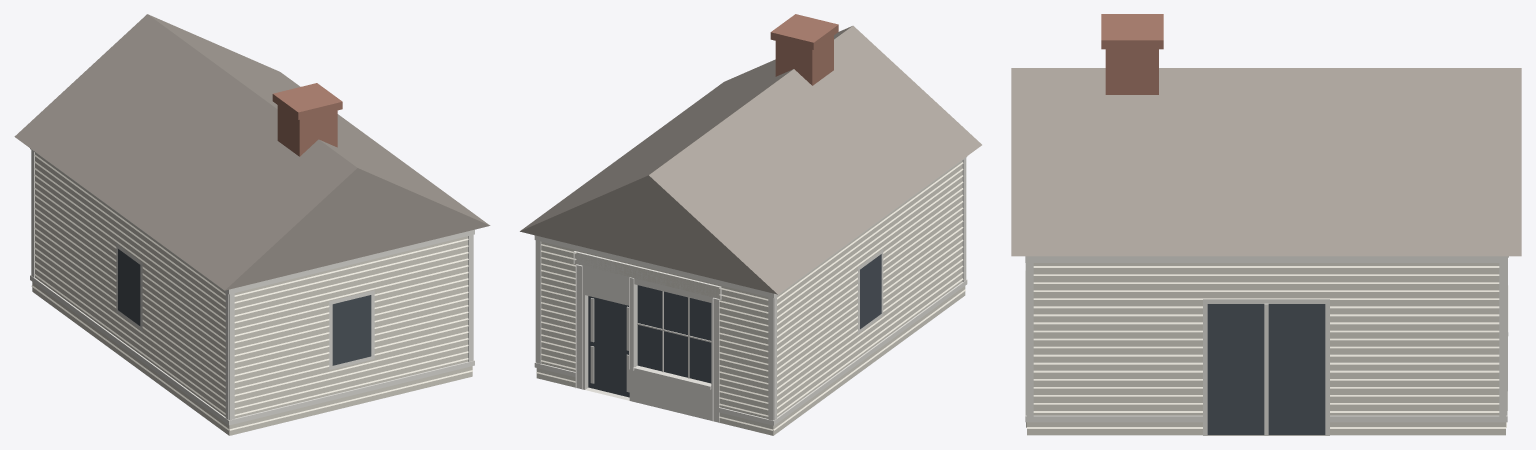
Rendered from recon_1835_north_c1_047__inferred_1835.glb.
The picture shows the model from 3 angles, left to right: view 1: azimuth 30°, elevation 25°; view 2: azimuth 150°, elevation 25°; view 3: azimuth 270°, elevation 25°; orthographic projection. The views are drawn at different scales.
Parts seen in each view (by area): view 1: recon_1835_north_c1_047__inferred_1835; view 2: recon_1835_north_c1_047__inferred_1835; view 3: recon_1835_north_c1_047__inferred_1835.
Part boxes in pixels (x1=…): recon_1835_north_c1_047__inferred_1835: x1=14, y1=14, x2=490, y2=435; recon_1835_north_c1_047__inferred_1835: x1=520, y1=14, x2=981, y2=435; recon_1835_north_c1_047__inferred_1835: x1=1011, y1=14, x2=1521, y2=435.
Size of the model in its own units: 5.87 by 5.84 by 8.04.
